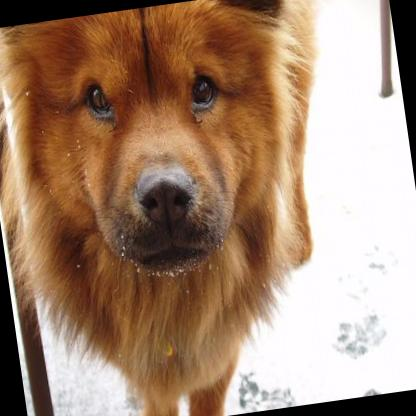chow: (0, 0, 369, 416)
